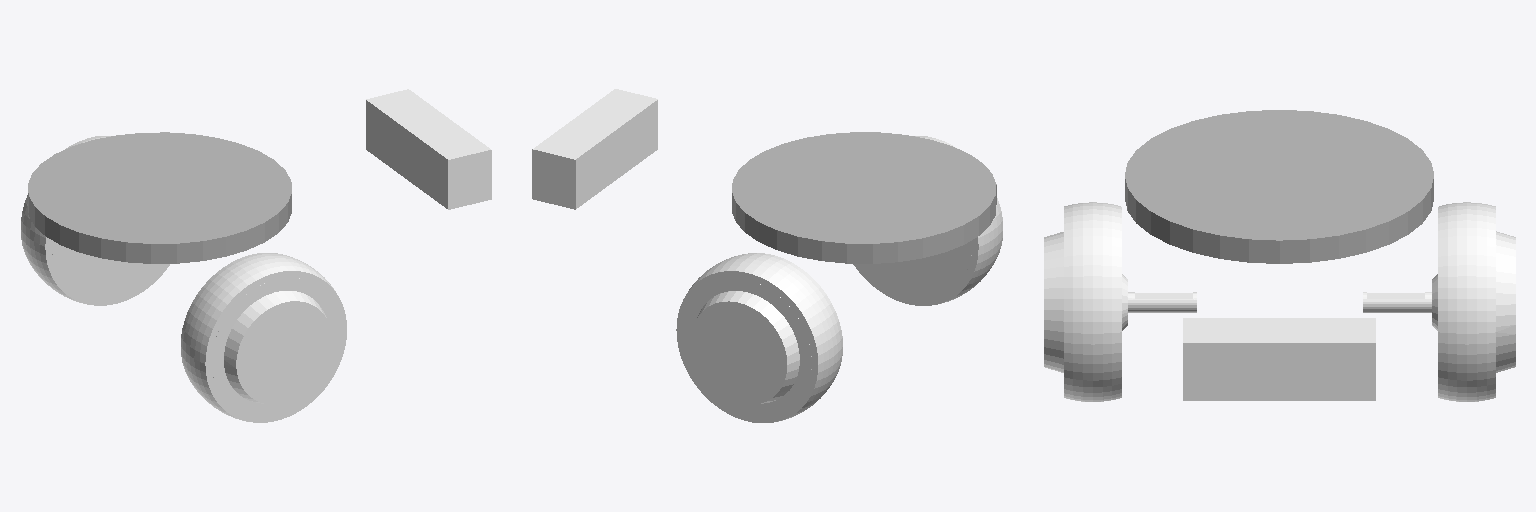
URDF robot description (agvcar):
<?xml version="1.0" encoding="utf-8"?>
<!-- This URDF was automatically created by SolidWorks to URDF Exporter! Originally created by [author] ([email redacted]) 
     Commit Version: 1.6.0-1-g15f4949  Build Version: 1.6.7594.29634
     For more information, please see http://wiki.ros.org/sw_urdf_exporter -->
<robot
  name="agvcar">
  <link
    name="base_link">
    <inertial>
      <origin
        xyz="0.0015713 -0.00080147 0.053517"
        rpy="0 0 0" />
      <mass
        value="8.0442" />
      <inertia
        ixx="0.048158"
        ixy="2.0276E-05"
        ixz="2.1723E-07"
        iyy="0.077509"
        iyz="-7.974E-07"
        izz="0.11857" />
    </inertial>
    <visual>
      <origin
        xyz="0 0 0"
        rpy="0 0 0" />
      <geometry>
        <mesh
          filename="package://agvcar/meshes/base_link.STL" />
      </geometry>
      <material
        name="">
        <color
          rgba="0.75294 0.75294 0.75294 1" />
      </material>
    </visual>
    <collision>
      <origin
        xyz="0 0 0"
        rpy="0 0 0" />
      <geometry>
        <mesh
          filename="package://agvcar/meshes/base_link.STL" />
      </geometry>
    </collision>
  </link>
  <link
    name="wheel_linkr">
    <inertial>
      <origin
        xyz="-1.6402E-17 0.01929 -6.3682E-06"
        rpy="0 0 0" />
      <mass
        value="0.97528" />
      <inertia
        ixx="0.0014416"
        ixy="-1.0983E-18"
        ixz="-4.8129E-22"
        iyy="0.0026015"
        iyz="6.8161E-09"
        izz="0.0014416" />
    </inertial>
    <visual>
      <origin
        xyz="0 0 0"
        rpy="0 0 0" />
      <geometry>
        <mesh
          filename="package://agvcar/meshes/wheel_linkr.STL" />
      </geometry>
      <material
        name="">
        <color
          rgba="1 1 1 1" />
      </material>
    </visual>
    <collision>
      <origin
        xyz="0 0 0"
        rpy="0 0 0" />
      <geometry>
        <mesh
          filename="package://agvcar/meshes/wheel_linkr.STL" />
      </geometry>
    </collision>
  </link>
  <joint
    name="joint1"
    type="continuous">
    <origin
      xyz="0.00077321 -0.1676 0.00305"
      rpy="0 0 0" />
    <parent
      link="base_link" />
    <child
      link="wheel_linkr" />
    <axis
      xyz="0 1 0" />
  </joint>
  <link
    name="wheel_linkl">
    <inertial>
      <origin
        xyz="3.23889780528675E-16 -0.0341899792438043 -6.36824230722255E-06"
        rpy="0 0 0" />
      <mass
        value="0.975276702669122" />
      <inertia
        ixx="0.0014415826428145"
        ixy="-1.11861270772928E-18"
        ixz="5.47113304489091E-22"
        iyy="0.0026014997834374"
        iyz="-6.81614475929063E-09"
        izz="0.00144162042998264" />
    </inertial>
    <visual>
      <origin
        xyz="0 0 0"
        rpy="0 0 0" />
      <geometry>
        <mesh
          filename="package://agvcar/meshes/wheel_linkl.STL" />
      </geometry>
      <material
        name="">
        <color
          rgba="1 1 1 1" />
      </material>
    </visual>
    <collision>
      <origin
        xyz="0 0 0"
        rpy="0 0 0" />
      <geometry>
        <mesh
          filename="package://agvcar/meshes/wheel_linkl.STL" />
      </geometry>
    </collision>
  </link>
  <joint
    name="joint2"
    type="continuous">
    <origin
      xyz="0.00077321 0.1825 0.00305"
      rpy="0 0 0" />
    <parent
      link="base_link" />
    <child
      link="wheel_linkl" />
    <axis
      xyz="0 1 0" />
  </joint>
  <link
    name="lidar_link">
    <inertial>
      <origin
        xyz="0.0133625593825962 0.000561225224982004 0.001213203484491"
        rpy="0 0 0" />
      <mass
        value="0.0716630788469335" />
      <inertia
        ixx="1.8018146584112E-05"
        ixy="5.92053205373987E-07"
        ixz="2.9454242447531E-07"
        iyy="2.3889220590142E-05"
        iyz="-2.7945777525098E-09"
        izz="3.94339872238935E-05" />
    </inertial>
    <visual>
      <origin
        xyz="0 0 0"
        rpy="0 0 0" />
      <geometry>
        <!-- <mesh
          filename="package://agvcar/meshes/lidar_link.STL" /> -->
                  <cylinder radius="0.12" length="0.02"/>
      </geometry>
      <material
        name="">
        <color
          rgba="0.752941176470588 0.752941176470588 0.752941176470588 1" />
      </material>
    </visual>
    <collision>
      <origin
        xyz="0 0 0"
        rpy="0 0 0" />
      <geometry>
        <!-- <mesh
          filename="package://agvcar/meshes/lidar_link.STL" /> -->
                    <cylinder radius="0.12" length="0.02"/>
      </geometry>
    </collision>
  </link>
  <joint
    name="joint4"
    type="fixed">
    <origin
      xyz="-0.024296 -0.00036246 0.09"
      rpy="0 0 0" />
    <parent
      link="base_link" />
    <child
      link="lidar_link" />
    <axis
      xyz="0 0 0" />
  </joint>
  <link
    name="imu_link">
    <inertial>
      <origin
        xyz="0.00110854842932509 0.000207236030641384 0.000412557390234325"
        rpy="0 0 0" />
      <mass
        value="0.0174472201901509" />
      <inertia
        ixx="9.17290327815907E-06"
        ixy="-1.46537185672713E-08"
        ixz="1.00361368145288E-09"
        iyy="4.53867028245448E-06"
        iyz="-1.83257391037148E-10"
        izz="1.36659329430745E-05" />
    </inertial>
    <visual>
      <origin
        xyz="0 0 0"
        rpy="0 0 0" />
      <geometry>
        <mesh
          filename="package://agvcar/meshes/imu_link.STL" />
      </geometry>
      <material
        name="">
        <color
          rgba="0.8 0.8 0.8 1" />
      </material>
    </visual>
    <collision>
      <origin
        xyz="0 0 0"
        rpy="0 0 0" />
      <geometry>
        <mesh
          filename="package://agvcar/meshes/imu_link.STL" />
      </geometry>
    </collision>
  </link>
  <joint
    name="joint3"
    type="fixed">
    <origin
      xyz="-0.084184 0.00018458 0.0498"
      rpy="0 0 0" />
    <parent
      link="base_link" />
    <child
      link="imu_link" />
    <axis
      xyz="0 0 0" />
  </joint>
  <link
    name="deep_link">
    <inertial>
      <origin
        xyz="0 0 0"
        rpy="0 0 0" />
      <mass
        value="0" />
      <inertia
        ixx="0"
        ixy="0"
        ixz="0"
        iyy="0"
        iyz="0"
        izz="0" />
    </inertial>
    <visual>
      <origin
        xyz="0 0 0"
        rpy="0 0 0" />
      <geometry>
        <!-- <mesh
          filename="package://agvcar/meshes/deep_link.STL" /> -->
                    <box size="0.045 0.15 0.05"/>
      </geometry>
      <material
        name="">
        <color
          rgba="1 1 1 1" />
      </material>
    </visual>
    <collision>
      <origin
        xyz="0 0 0"
        rpy="0 0 0" />
      <geometry>
        <!-- <mesh
          filename="package://agvcar/meshes/deep_link.STL" /> -->
                    <box size="0.045 0.15 0.05"/>
      </geometry>
    </collision>
  </link>
  <joint
    name="joint5"
    type="fixed">
    <origin
      xyz="0.25652 -0.00051396 0.073248"
      rpy="0 0 0" />
    <parent
      link="base_link" />
    <child
      link="deep_link" />
    <axis
      xyz="0 0 0" />
  </joint>
</robot>

--- What the picture shows (computed from the rendered views, not written in the file) ---
3 views of the same robot in one strip: view 1: azimuth 30°, elevation 25°; view 2: azimuth 150°, elevation 25°; view 3: azimuth 270°, elevation 25° (orthographic).
Robot: agvcar — 6 links, 5 joints (2 continuous, 3 fixed); root link base_link; default pose: every joint at zero.
Links seen in each view (by area): view 1: lidar_link, wheel_linkr, deep_link, wheel_linkl; view 2: lidar_link, wheel_linkl, deep_link, wheel_linkr; view 3: lidar_link, deep_link, wheel_linkr, wheel_linkl.
Link boxes in pixels (x1,y1,x2,y2): lidar_link: [28, 132, 291, 263]; wheel_linkr: [181, 253, 346, 422]; deep_link: [366, 89, 491, 209]; wheel_linkl: [21, 136, 169, 305]; lidar_link: [732, 132, 996, 263]; wheel_linkl: [676, 253, 842, 422]; deep_link: [532, 89, 657, 209]; wheel_linkr: [853, 136, 1002, 305]; lidar_link: [1125, 110, 1433, 263]; deep_link: [1183, 318, 1375, 400]; wheel_linkr: [1044, 202, 1196, 401]; wheel_linkl: [1363, 202, 1515, 401].
Bounding box of the posed robot: 0.4233 × 0.365 × 0.1743 m (x, y, z).
2 mesh visuals loaded from 4 distinct referenced files (2 binary STL); not drawn: 2 (reference not matched to a file when rendering).
